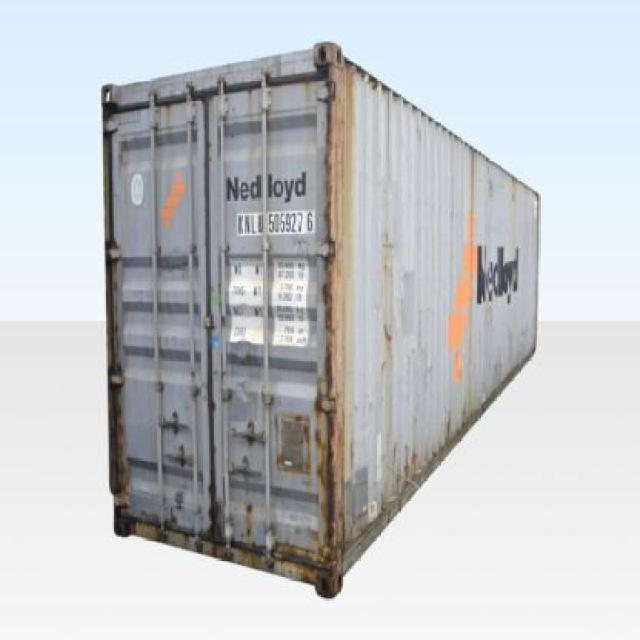container_number: (234, 206, 320, 233)
